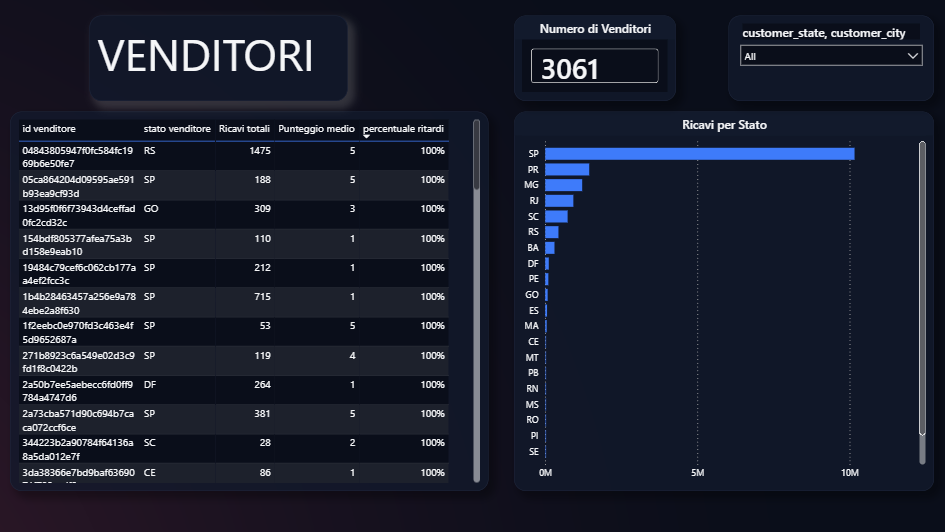

The dashboard page shown, as its layout file describes it:
{"tool":"powerbi","page":{"name":"Venditori","canvas":[1280,720],"ordinal":3},"visuals":[{"type":"tableEx","fields":{"Values":["sellers.seller_id","sellers.seller_state","Sum(sellers.total_revenue)","sellers.average_review_score","sellers.late_percentage"]},"box":[24,150,638,506],"z":0},{"type":"barChart","title":"Ricavi per Stato","fields":{"Category":["sellers.seller_state"],"Y":["Sum(sellers.total_revenue)"]},"box":[696,150,560,506],"z":1000},{"type":"cardVisual","title":"Numero di Venditori","fields":{"Data":["Count(sellers.seller_id)"]},"box":[696,22,216,114],"z":2000},{"type":"slicer","fields":{"Values":["customers.customer_state Hierarchy.customer_state","customers.customer_state Hierarchy.customer_city"]},"box":[982,22,274,114],"z":3000},{"type":"textbox","box":[130,21.4,344.3,94.3],"z":4000}]}

Visuals, with their boxes in screenshot pixels (x1, y1, x2, y2), scaled from the page's 1280x720 canvas onto the 945x532 screenshot:
tableEx - sellers.seller_id x sellers.seller_state: (18, 111, 489, 485)
"Ricavi per Stato" barChart: (514, 111, 927, 485)
"Numero di Venditori" cardVisual: (514, 16, 673, 100)
slicer - customers.customer_state Hierarchy.customer_state x customers.customer_state Hierarchy.customer_city: (725, 16, 927, 100)
textbox: (96, 16, 350, 85)
